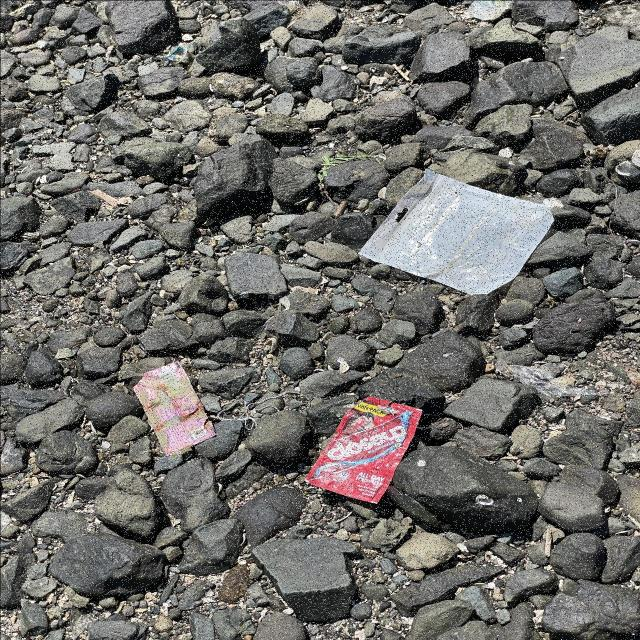plastic_waste: (354, 171, 555, 297), (304, 395, 421, 501), (136, 363, 220, 458), (466, 1, 515, 21), (163, 42, 195, 65)
